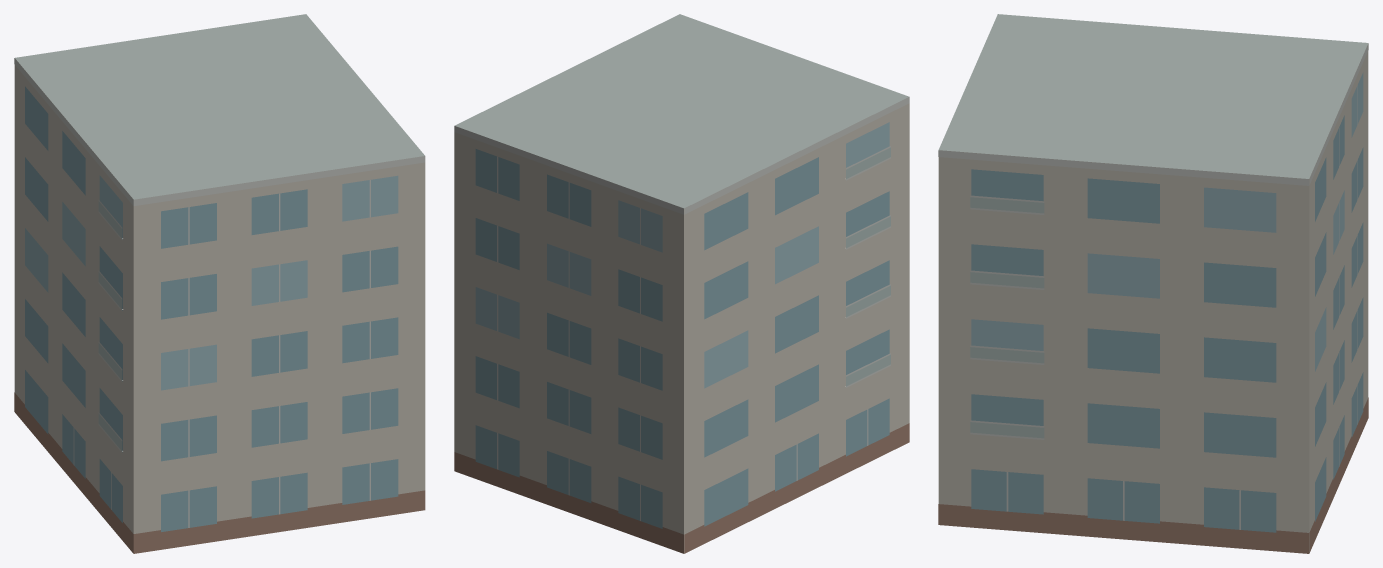
The model's file is survey-upis-32536995.glb.
3 renders of one model, left to right at view 1: azimuth 30°, elevation 25°; view 2: azimuth 150°, elevation 25°; view 3: azimuth 270°, elevation 25°, orthographic. The views are drawn at different scales.
Parts seen in each view (by area): view 1: survey-upis-32536995.tmp; view 2: survey-upis-32536995.tmp; view 3: survey-upis-32536995.tmp.
Part boxes in pixels (x1,y1,x2,y2): survey-upis-32536995.tmp: (14, 14, 425, 553); survey-upis-32536995.tmp: (454, 14, 909, 553); survey-upis-32536995.tmp: (938, 14, 1368, 553).
Bounding box in the file's own units: 12.48 × 13.2 × 13.74.
